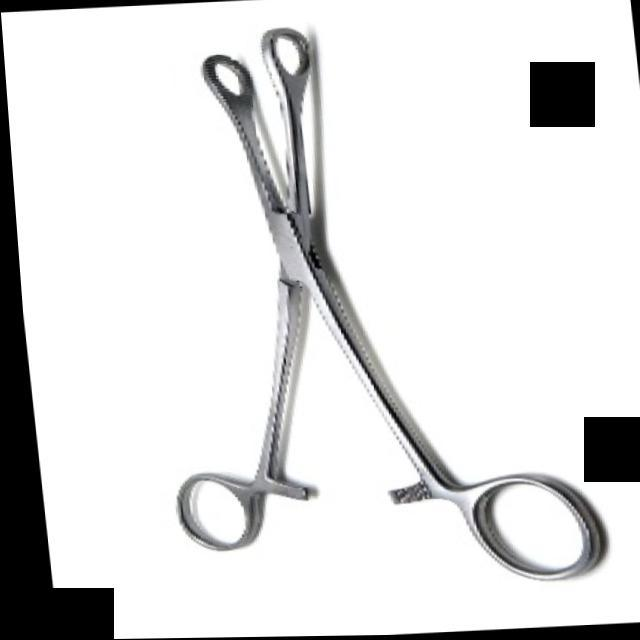Sponge Holding Forceps: (108, 10, 608, 602)
